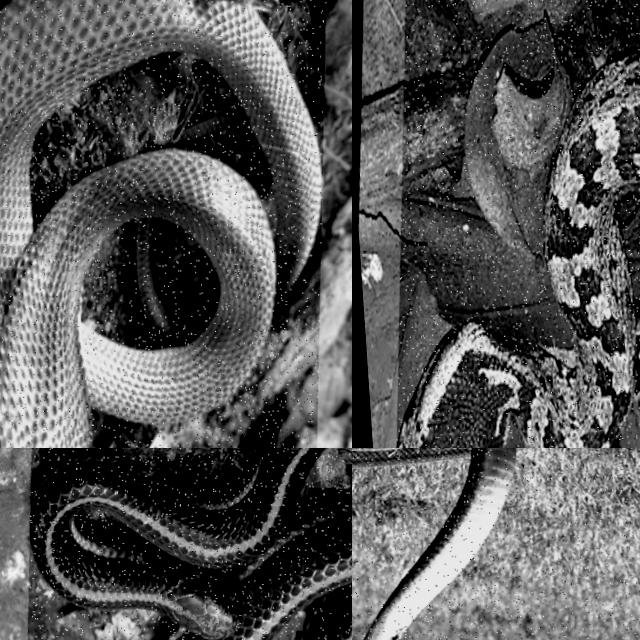Calliophis intestinalis: (30, 448, 351, 639)
Naja siamensis: (0, 0, 323, 447)
Ophiophagus hannah: (352, 448, 516, 639)
Ovophis monticola: (398, 53, 639, 447)
snake: (0, 0, 323, 447), (398, 53, 639, 447), (30, 448, 351, 639), (352, 448, 516, 639)
